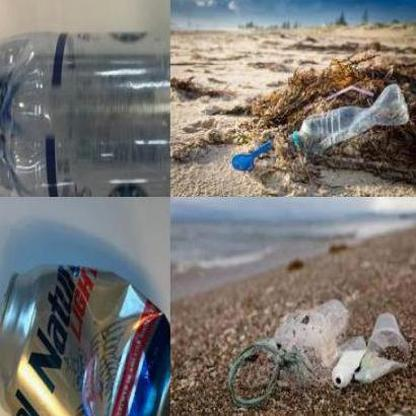can: (1, 264, 169, 416)
plastic bottle: (2, 32, 168, 196), (286, 84, 409, 150)
